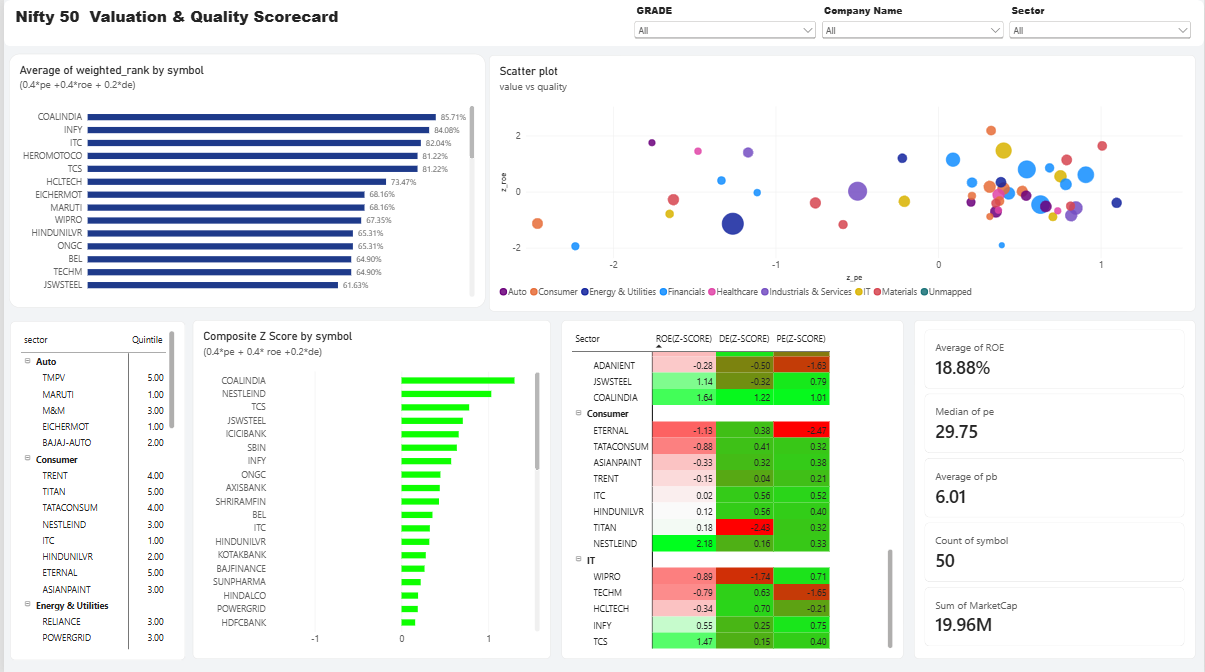

This screenshot's page, from the dashboard's own definition file:
{"tool":"powerbi","page":{"name":" Valuation & Quality Scorecard","canvas":[1920,1080],"ordinal":2},"visuals":[{"type":"shape","box":[0,0,1920,74],"z":0},{"type":"textbox","box":[17.5,8.8,656.2,45],"z":1000},{"type":"slicer","fields":{"Values":["level_1.company_name"]},"box":[1304.2,5,300,75],"z":2000},{"type":"slicer","fields":{"Values":["sector_dim.sector"]},"box":[1604.2,6.7,300,76.7],"z":3000},{"type":"clusteredBarChart","fields":{"Category":["level_3_per_rank.symbol"],"Y":["Avg(level_3_per_rank.weighted_rank)"]},"box":[8,86,762,406],"z":4000},{"type":"pivotTable","fields":{"Rows":["sector_dim.sector","level_3_per_rank.symbol"],"Values":["Avg(level_3_per_rank.quintile)"]},"box":[10,514,280,542],"z":5000},{"type":"clusteredBarChart","fields":{"Category":["level_3_z.symbol"],"Y":["Avg(level_3_z.comosite_z_score)"]},"box":[302,511.5,572.5,542.5],"z":6000},{"type":"pivotTable","fields":{"Rows":["level_3_z.sector","level_3_z.symbol"],"Values":["Avg(level_3_z.z_roe)","Avg(level_3_z.z_de)","Avg(level_3_z.z_pe)"]},"box":[892.5,512.5,547.5,542.5],"z":7000},{"type":"scatterChart","title":"Scatter plot","fields":{"Category":["level_3_z.symbol"],"Series":["level_3_z.sector"],"Size":["Sum(level_3_z.MarketCap)"],"X":["Avg(level_3_z.z_pe)"],"Y":["Avg(level_3_z.z_roe)"]},"box":[776,88,1130,410],"z":8000},{"type":"cardVisual","fields":{"Data":["Avg(level_1.ROE)","Median(level_1.pe)","Avg(level_2.pb)","Count(sector_dim.symbol)","Sum(level_3_z.MarketCap)"]},"box":[1455,512.5,450,542.5],"z":9000},{"type":"slicer","fields":{"Values":["level_3_per_rank.quintile"]},"box":[1004,6,300,76],"z":10000}]}

Visuals, with their boxes in screenshot pixels (x1, y1, x2, y2), scaled from the page's 1920x1080 canvas onto the 1205x672 screenshot:
shape: box(0, 0, 1204, 46)
textbox: box(11, 5, 423, 33)
slicer - level_1.company_name: box(819, 3, 1007, 50)
slicer - sector_dim.sector: box(1007, 4, 1195, 52)
clusteredBarChart - level_3_per_rank.symbol x Avg(level_3_per_rank.weighted_rank): box(5, 54, 483, 306)
pivotTable - sector_dim.sector x level_3_per_rank.symbol: box(6, 320, 182, 657)
clusteredBarChart - level_3_z.symbol x Avg(level_3_z.comosite_z_score): box(190, 318, 549, 656)
pivotTable - level_3_z.sector x level_3_z.symbol: box(560, 319, 904, 656)
"Scatter plot" scatterChart: box(487, 55, 1196, 310)
cardVisual - Avg(level_1.ROE) x Median(level_1.pe): box(913, 319, 1196, 656)
slicer - level_3_per_rank.quintile: box(630, 4, 818, 51)
